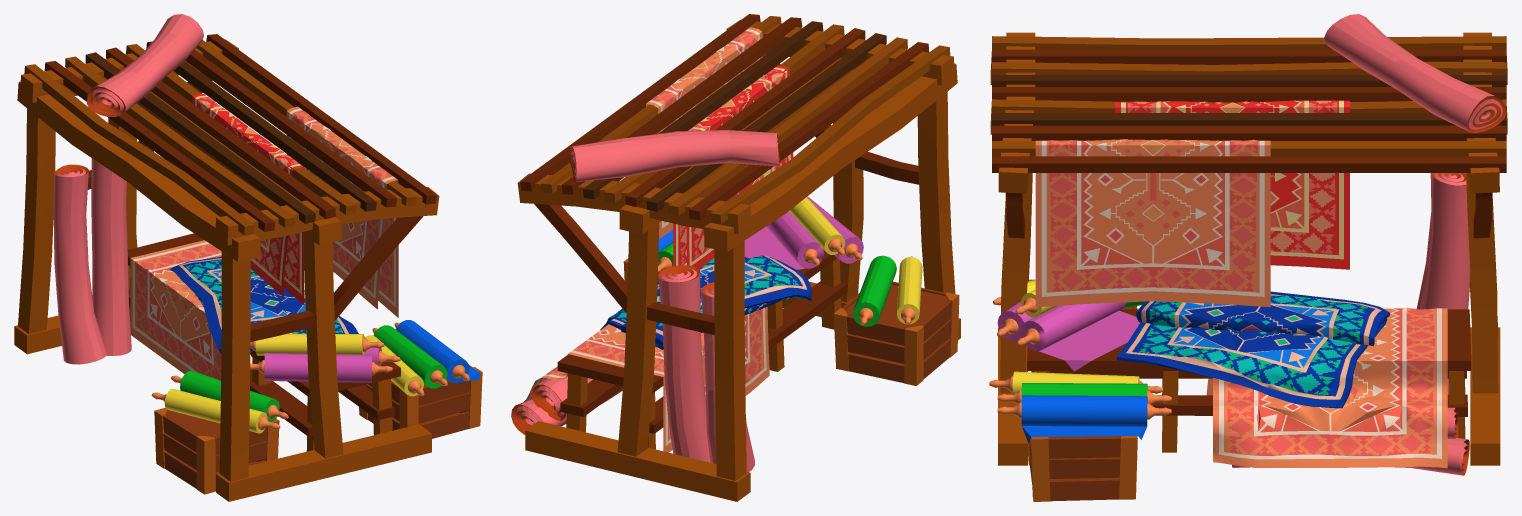
Rendered from low_poly_market_stall_2.glb.
3 views of the same model, side by side, from view 1: azimuth 30°, elevation 25°; view 2: azimuth 150°, elevation 25°; view 3: azimuth 270°, elevation 25° (orthographic). The views are drawn at different scales.
Visible parts, largest first — view 1: Cube.067; view 2: Cube.067; view 3: Cube.067.
Part boxes in pixels (x1,y1,x2,y2): Cube.067: (14, 14, 482, 501); Cube.067: (511, 14, 960, 501); Cube.067: (989, 14, 1507, 501).
Size of what is drawn, in the model's own units: 1.51 by 1.53 by 2.04.
1 material, 1 textured.
